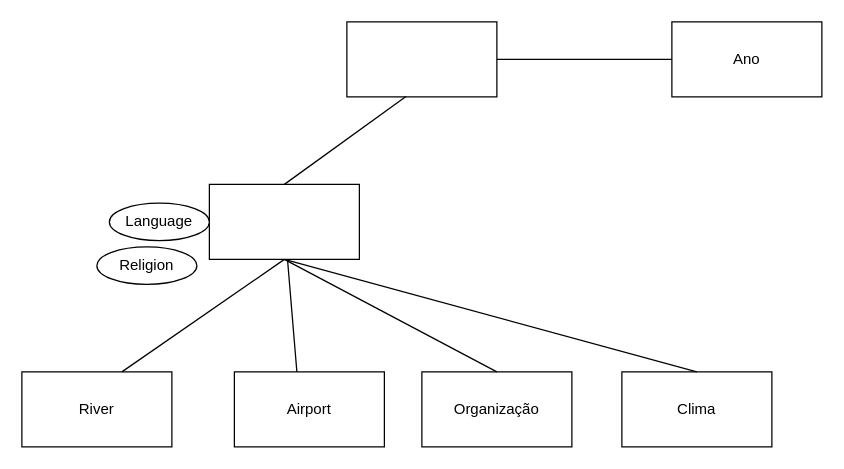
The diagram is 844 pixels wide and 469 high, and some of its shapes have lost their labels. The centre of each missing label's shape, as x and y in pixels:
"Country" belongs at (x=283, y=221).
"Fato" belongs at (x=421, y=59).
